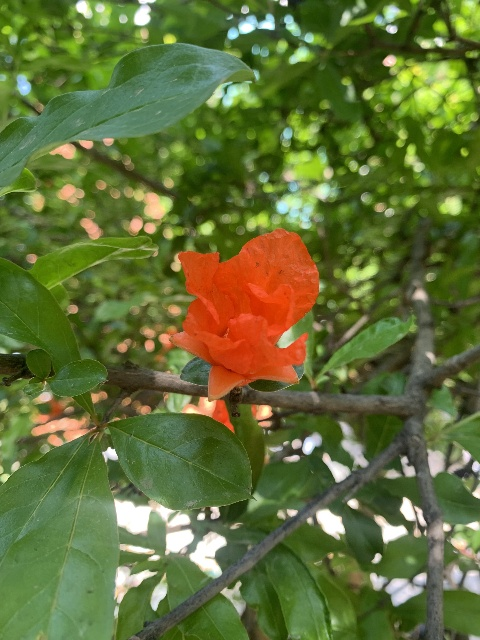flower: (171, 227, 319, 430)
